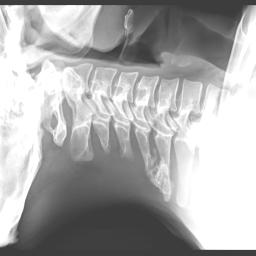cancer: (144, 149, 175, 193)
